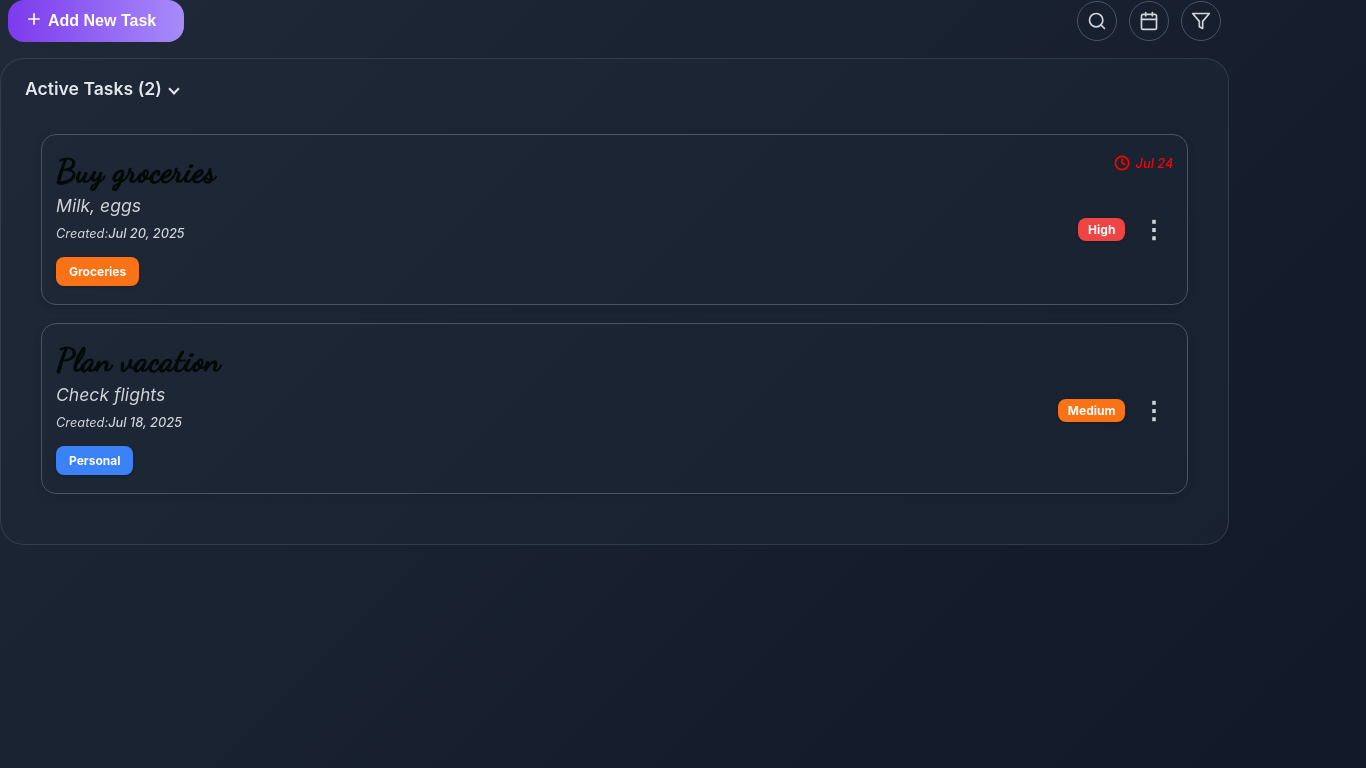
Test: TodoList › filters by priority pill click
The image size is (1366, 768).
Click the text "High": click(1102, 230) [1078,218,1125,241]
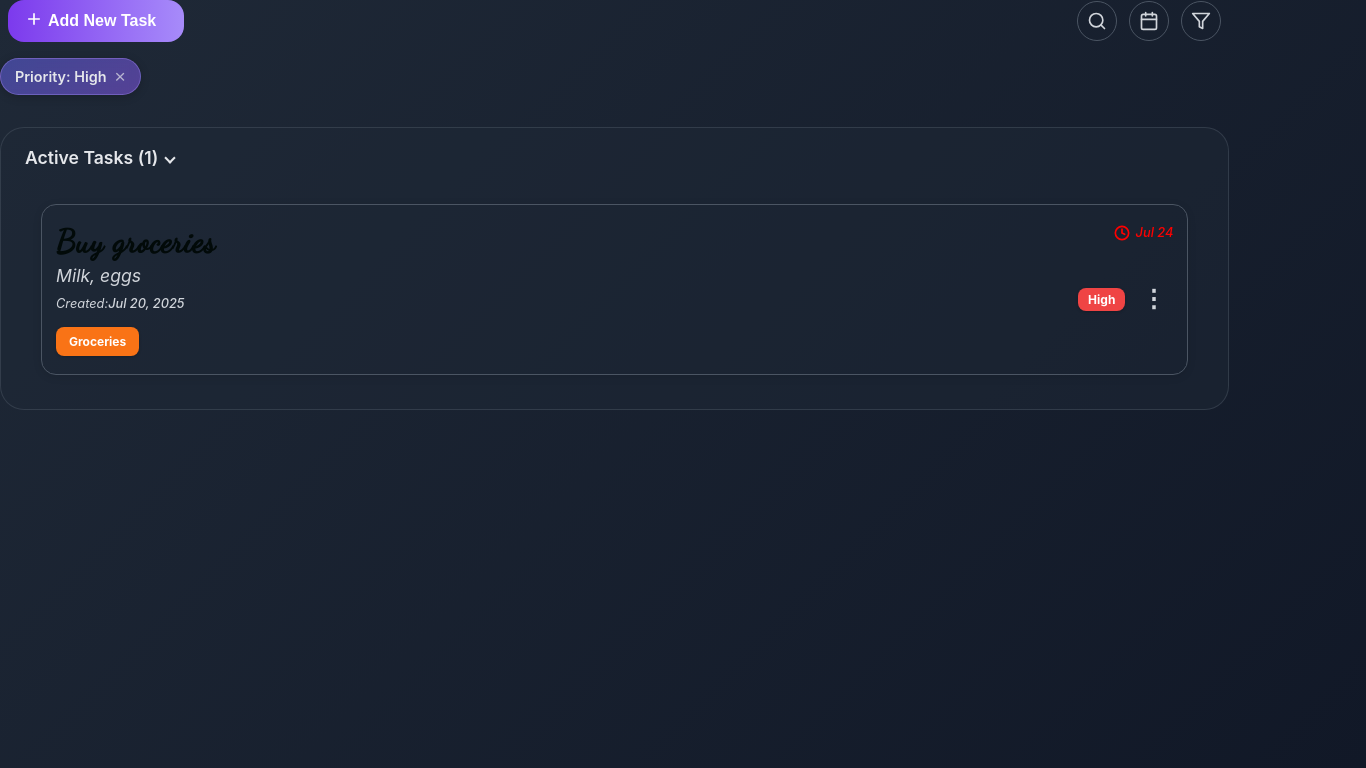
Expected: the text "Buy groceries" is shown, [56,223,215,261]
Now the text "Priority: High" is shown, box [15,68,107,85]
Now the text "Plan vacation" is gone
